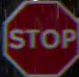Stop: (2, 1, 78, 76)
